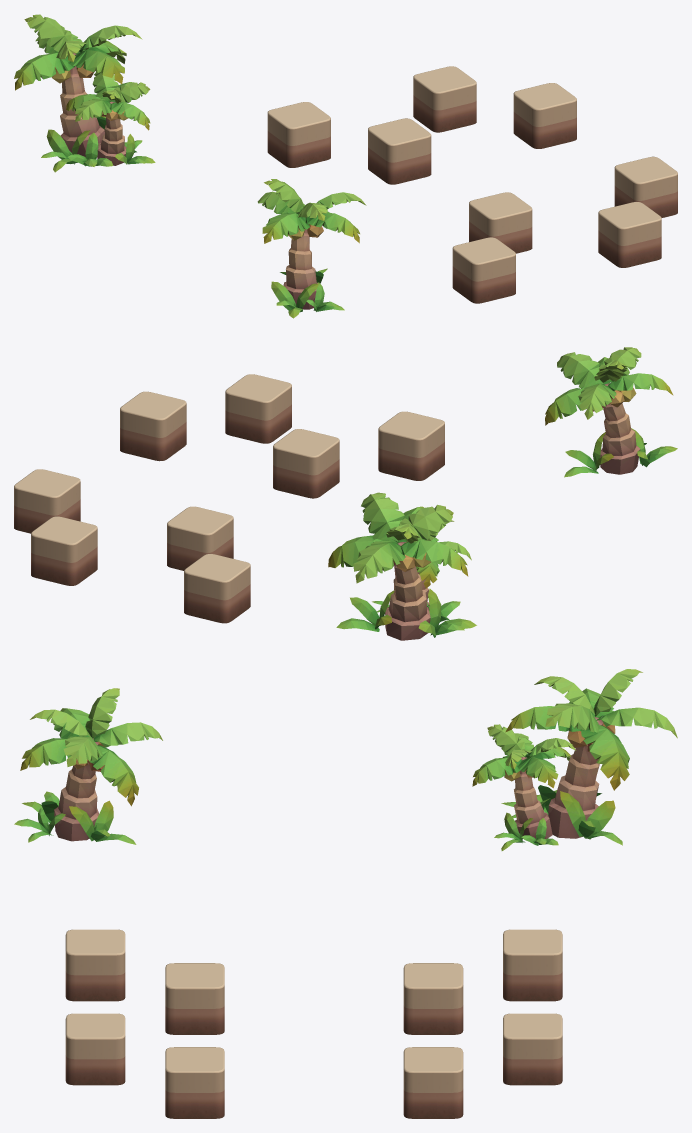
File: Props.fbx
3 renders of one model, top to bottom at view 1: azimuth 30°, elevation 25°; view 2: azimuth 150°, elevation 25°; view 3: azimuth 270°, elevation 25°, orthographic. The views are drawn at different scales.
Parts seen in each view (by area): view 1: yezishu01, yezishu02, Box01 (5), Box01, Box01 (3), Box01 (1), Box01 (2), Box01 (7), Box01 (4), Box01 (6); view 2: yezishu01, yezishu02, Box01 (4), Box01 (1), Box01, Box01 (3), Box01 (6), Box01 (2), Box01 (5), Box01 (7); view 3: yezishu01, yezishu02, Box01, Box01 (1), Box01 (7), Box01 (5), Box01 (2), Box01 (3), Box01 (4), Box01 (6).
Boxes of the visible parts, x1,y1,x2,y2 form: yezishu01: (14, 14, 155, 172); yezishu02: (257, 179, 366, 318); Box01 (5): (368, 118, 431, 184); Box01: (452, 237, 515, 303); Box01 (3): (413, 66, 476, 132); Box01 (1): (598, 201, 661, 267); Box01 (2): (267, 102, 330, 167); Box01 (7): (513, 83, 576, 148); Box01 (4): (469, 192, 532, 253); Box01 (6): (614, 156, 677, 217); yezishu01: (328, 492, 476, 640); yezishu02: (545, 347, 677, 477); Box01 (4): (273, 429, 339, 498); Box01 (1): (225, 374, 291, 443); Box01: (378, 411, 444, 480); Box01 (3): (31, 516, 97, 585); Box01 (6): (120, 391, 186, 461); Box01 (2): (184, 553, 250, 623); Box01 (5): (167, 506, 233, 570); Box01 (7): (14, 469, 80, 533); yezishu01: (472, 669, 677, 850); yezishu02: (14, 688, 162, 844); Box01: (65, 929, 125, 1001); Box01 (1): (65, 1013, 125, 1085); Box01 (7): (403, 1047, 463, 1118); Box01 (5): (403, 963, 463, 1034); Box01 (2): (503, 929, 562, 1001); Box01 (3): (503, 1013, 562, 1085); Box01 (4): (165, 963, 224, 1034); Box01 (6): (165, 1047, 224, 1118).
Size of the model in its own units: 33.45 by 10.64 by 33.42.
